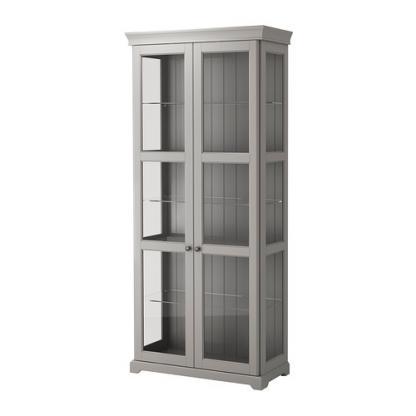Cabinet: (119, 21, 294, 394)
